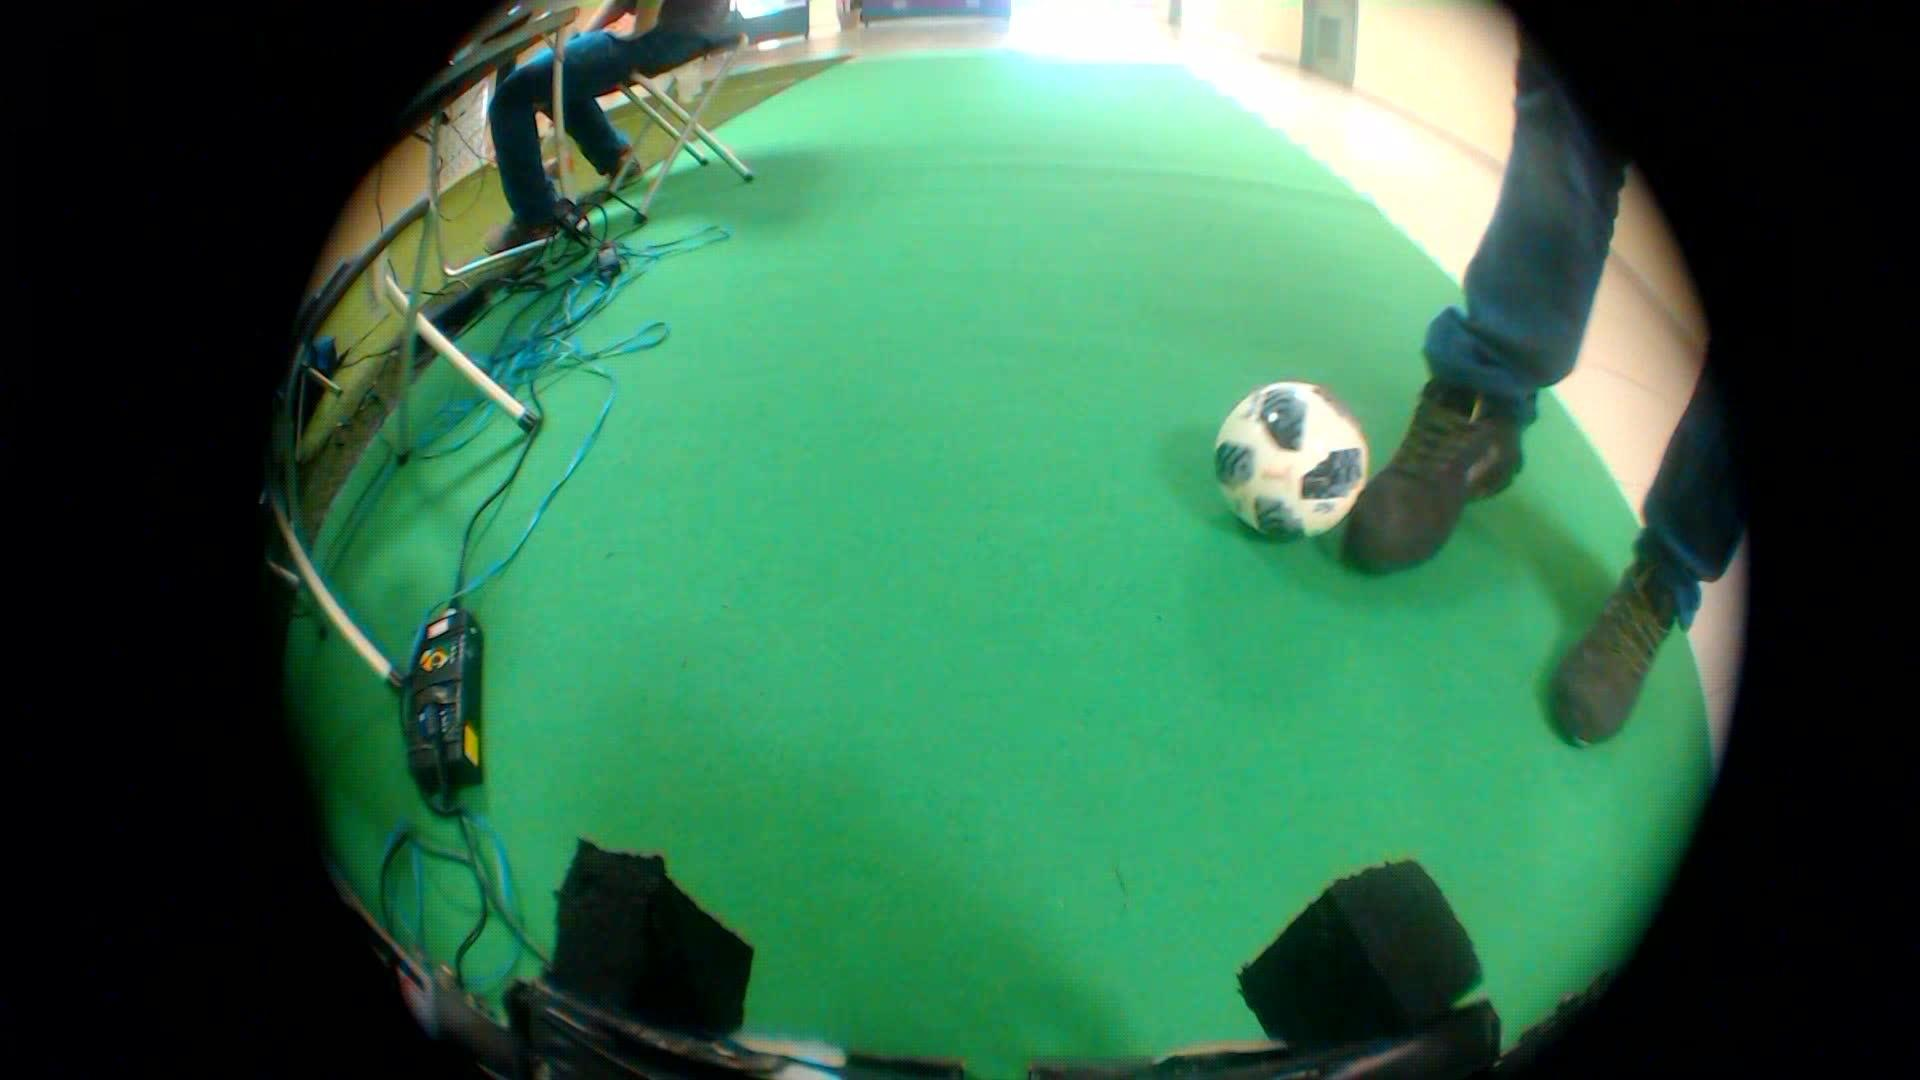ball: (1188, 369, 1398, 551)
